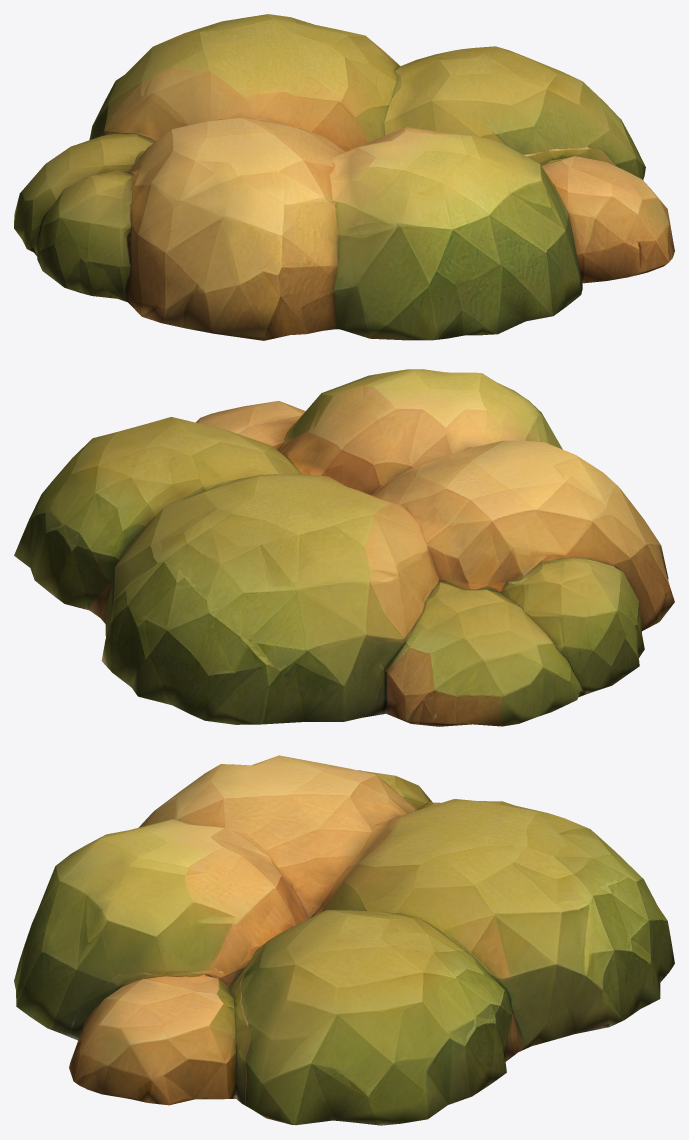
File: Settle_Shrub.fbx
The picture shows the model from 3 angles, top to bottom: view 1: azimuth 30°, elevation 25°; view 2: azimuth 150°, elevation 25°; view 3: azimuth 270°, elevation 25°; orthographic projection. The views are drawn at different scales.
Visible parts, largest first — view 1: texture_mapping; view 2: texture_mapping; view 3: texture_mapping.
Boxes of the visible parts, box(x1,y1,x2,y2) form: texture_mapping: box(14, 14, 674, 340); texture_mapping: box(14, 369, 674, 726); texture_mapping: box(14, 755, 674, 1125).
Bounding box in the file's own units: 0.9945 × 0.9592 × 0.2369.
Materials: 1 (1 with a texture image).
